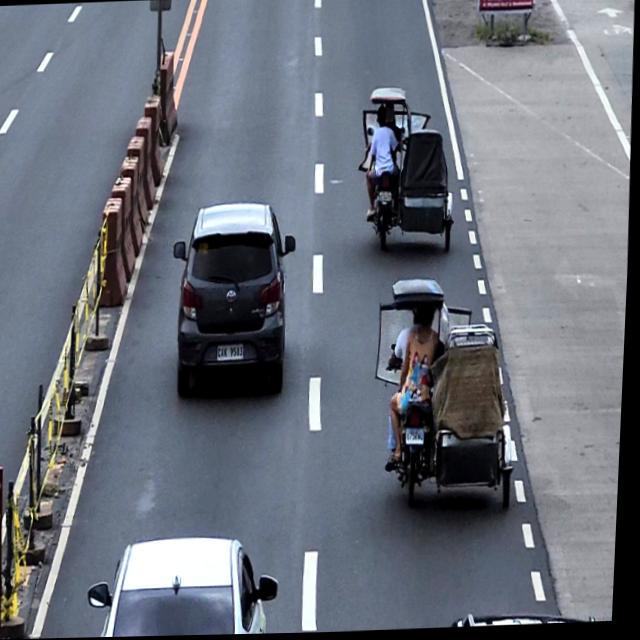Car: (169, 200, 302, 399), (90, 534, 285, 638)
License-Plate: (218, 342, 248, 362), (409, 428, 429, 448), (379, 191, 395, 204)
Tricycle: (371, 275, 526, 515), (355, 85, 461, 259)
